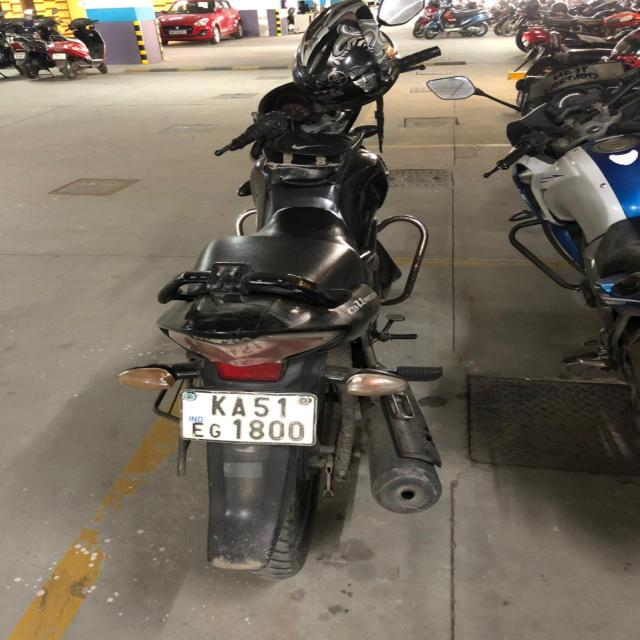number plate: (178, 388, 318, 447)
